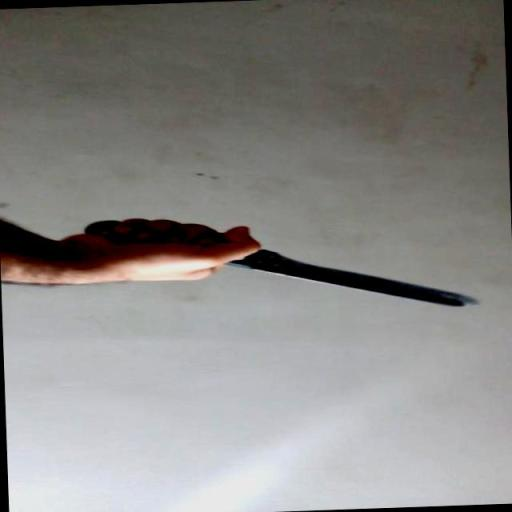knife: (84, 206, 483, 320)
